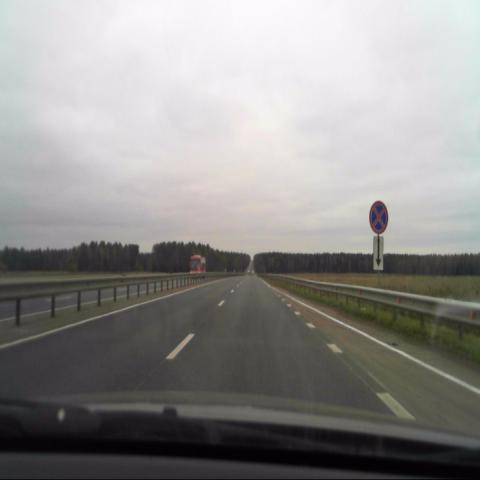8_2_3: (372, 235, 384, 270)
